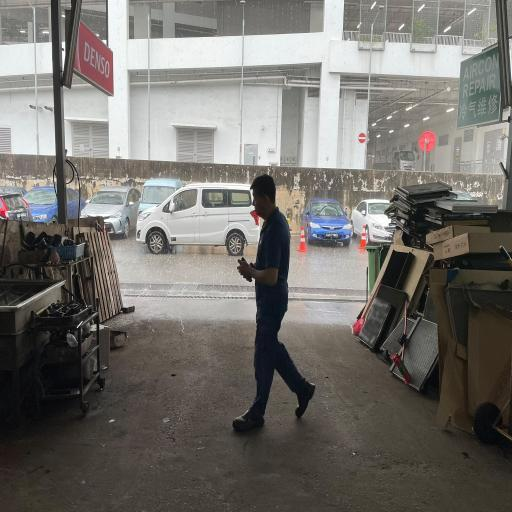person_left: (237, 175, 318, 435)
